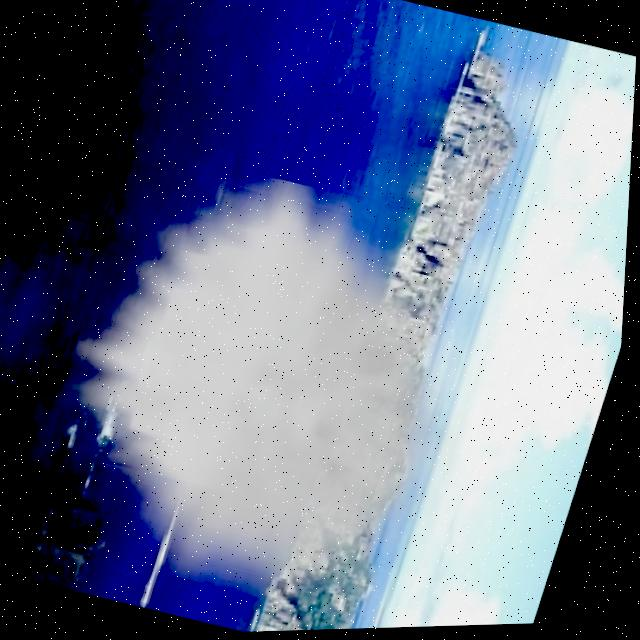Smoke: (20, 145, 528, 630)
